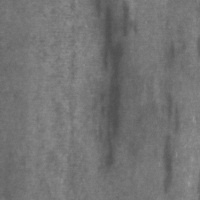inclusion: (95, 0, 135, 171), (155, 131, 179, 196), (161, 88, 184, 136)
